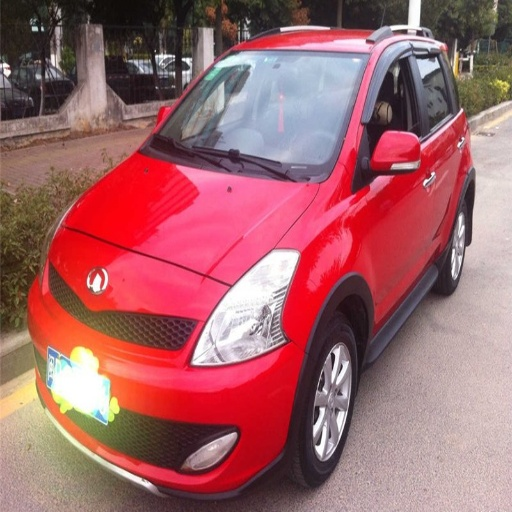front_bumper: (37, 231, 306, 494)
front_glass: (141, 50, 368, 182)
front_left_door: (357, 37, 434, 332)
